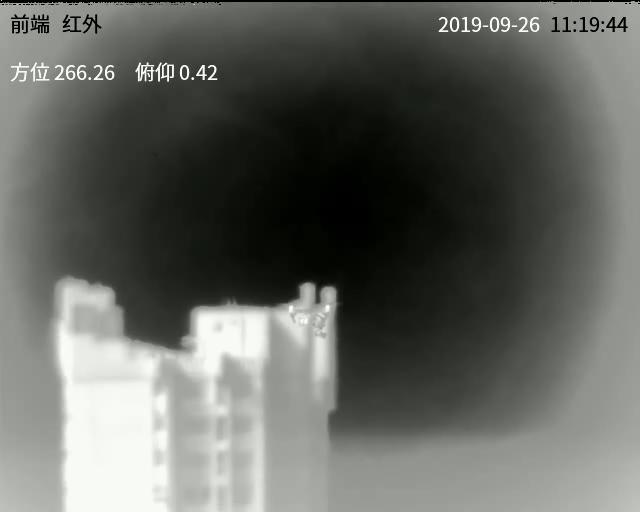uav: (281, 295, 342, 342)
